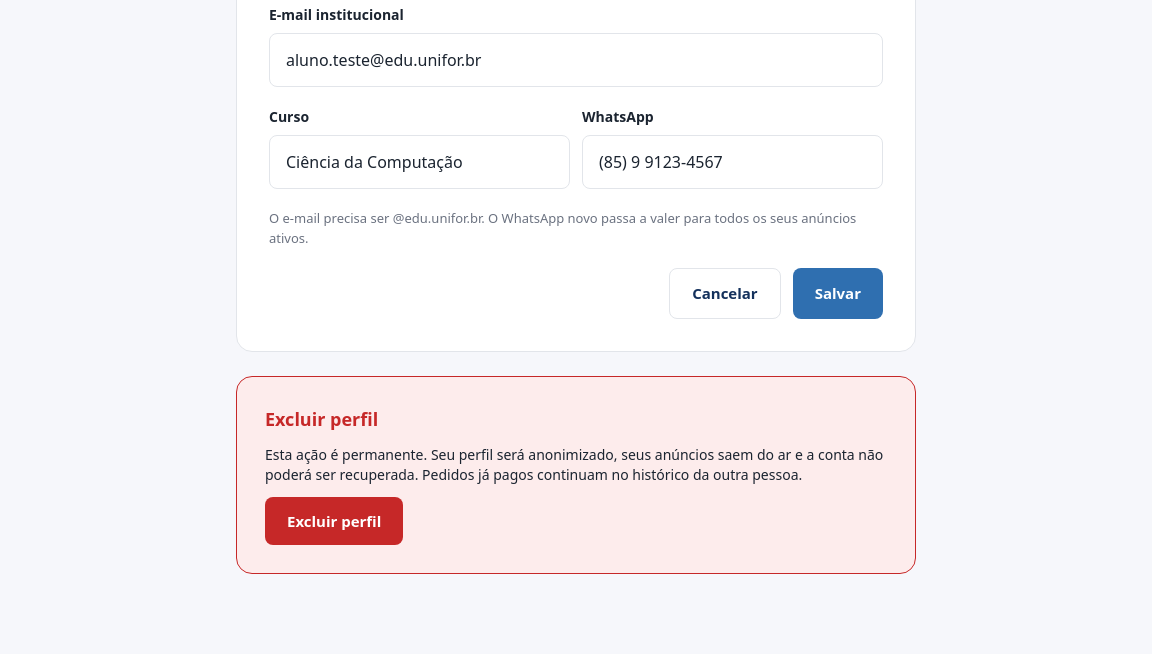
Test: Editar perfil (05b) › cancelar o pop-up não exclui nada
The width and height of the screenshot is (1152, 654).
(page scrolled)
What coordinates should you click on to do the following:
click the button "Excluir perfil"
I would click on:
 (334, 521)
Its box is [265, 497, 403, 545].
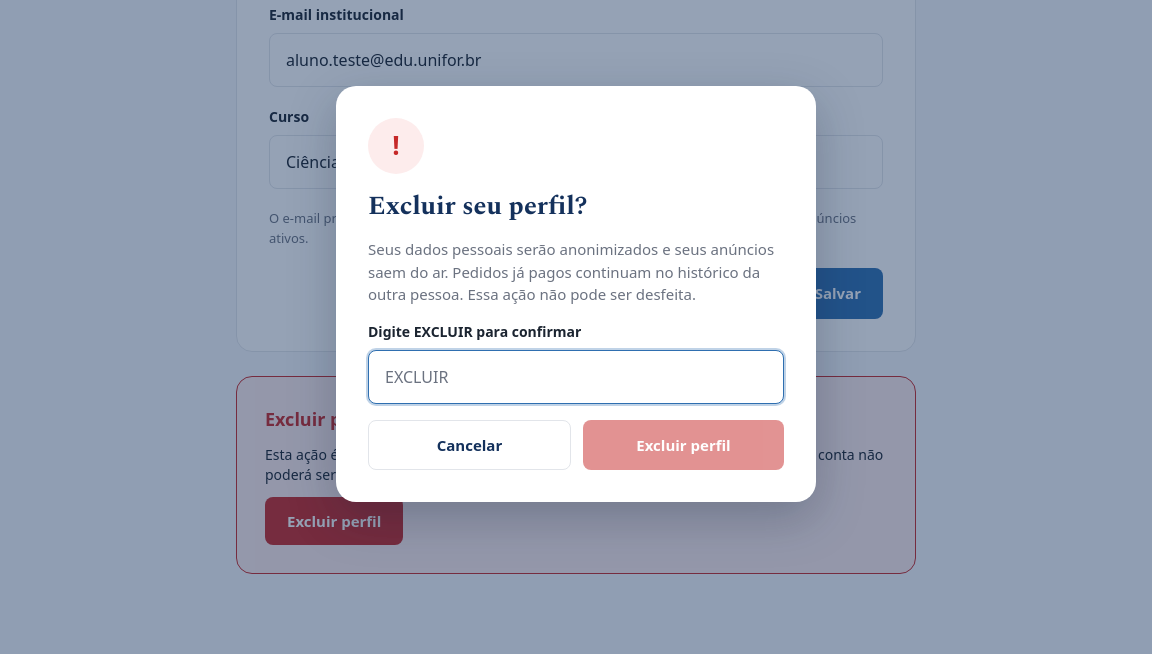
What coordinates should you click on to do the following:
click the button "Cancelar"
I would click on:
 (470, 445)
Its box is [368, 420, 571, 470].
(page scrolled)
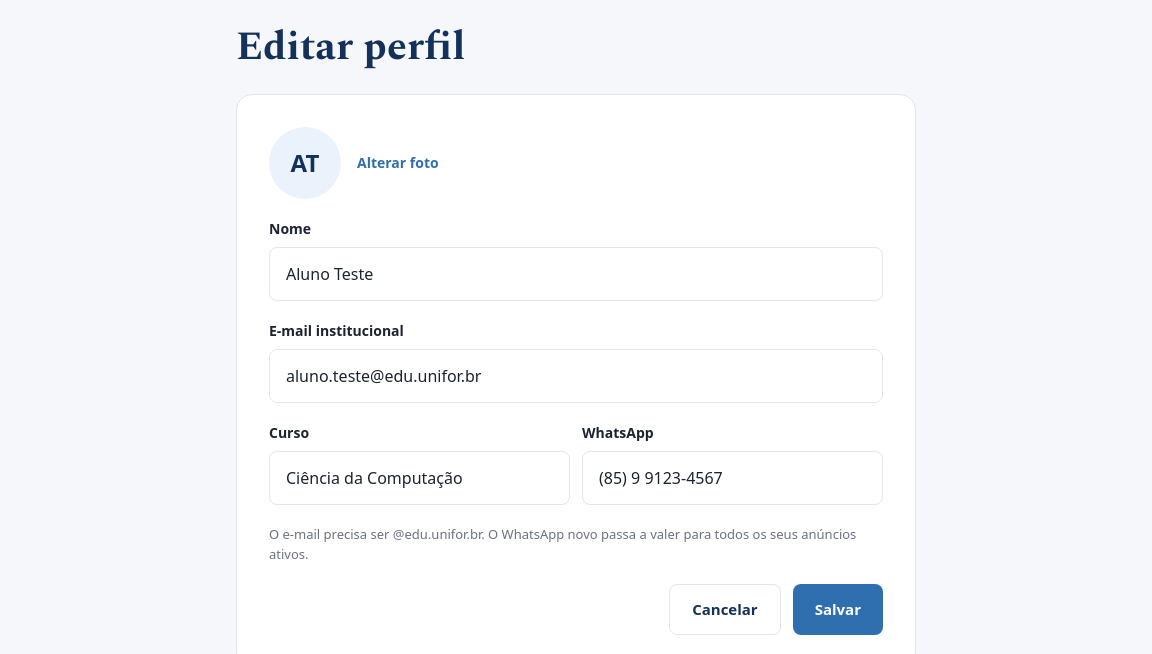
Expected: the heading "Editar perfil" is shown, [236, 17, 465, 78]
Result: the dialog is gone
